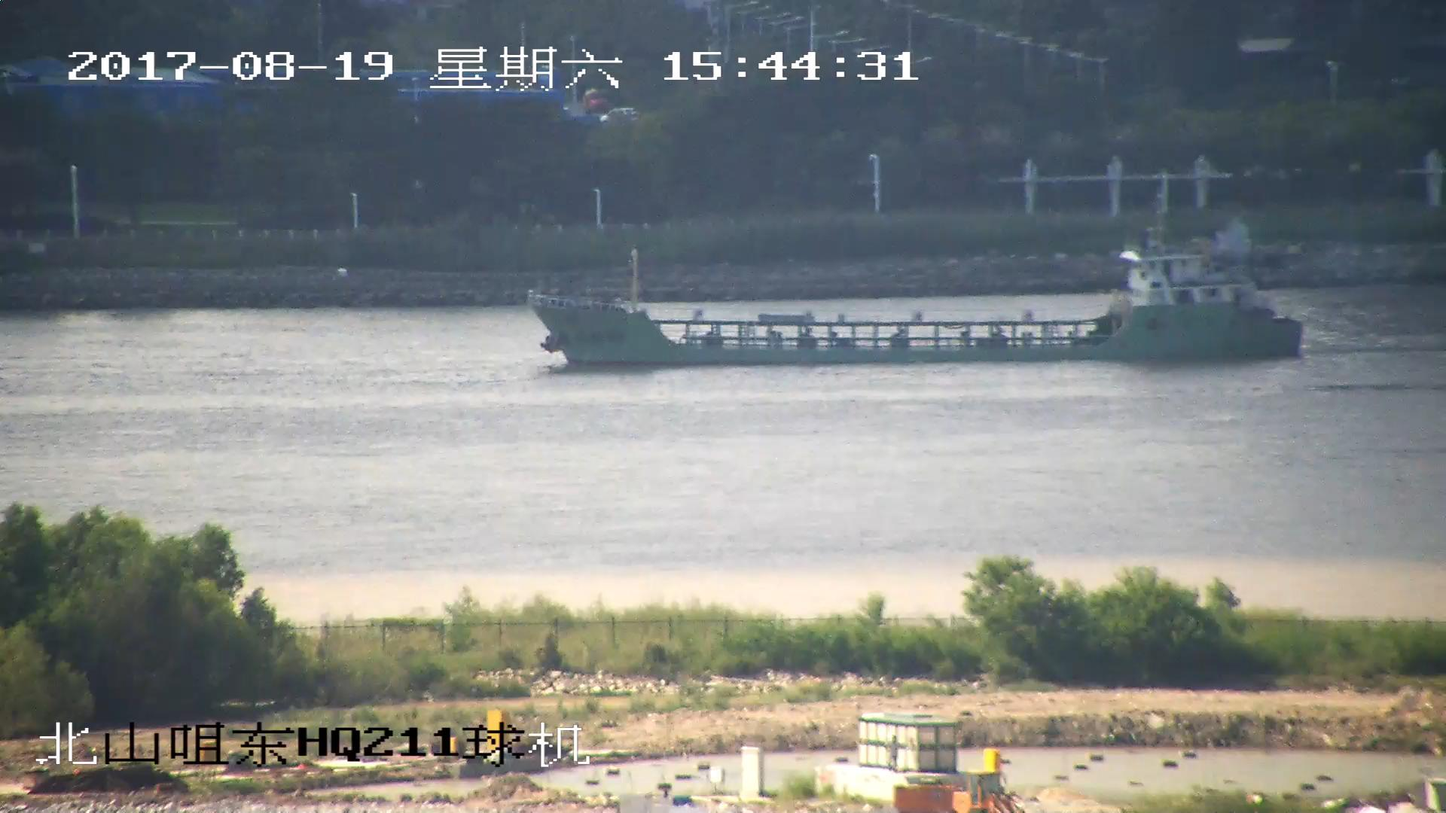general cargo ship: (528, 223, 1302, 365)
